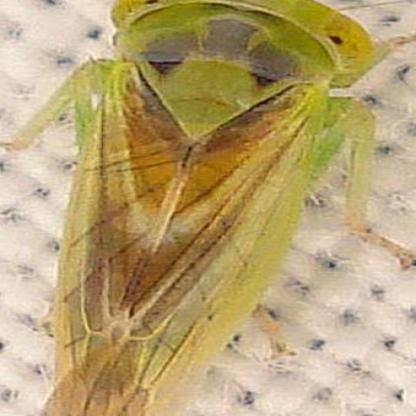green-leafhopper: (38, 2, 373, 416)
